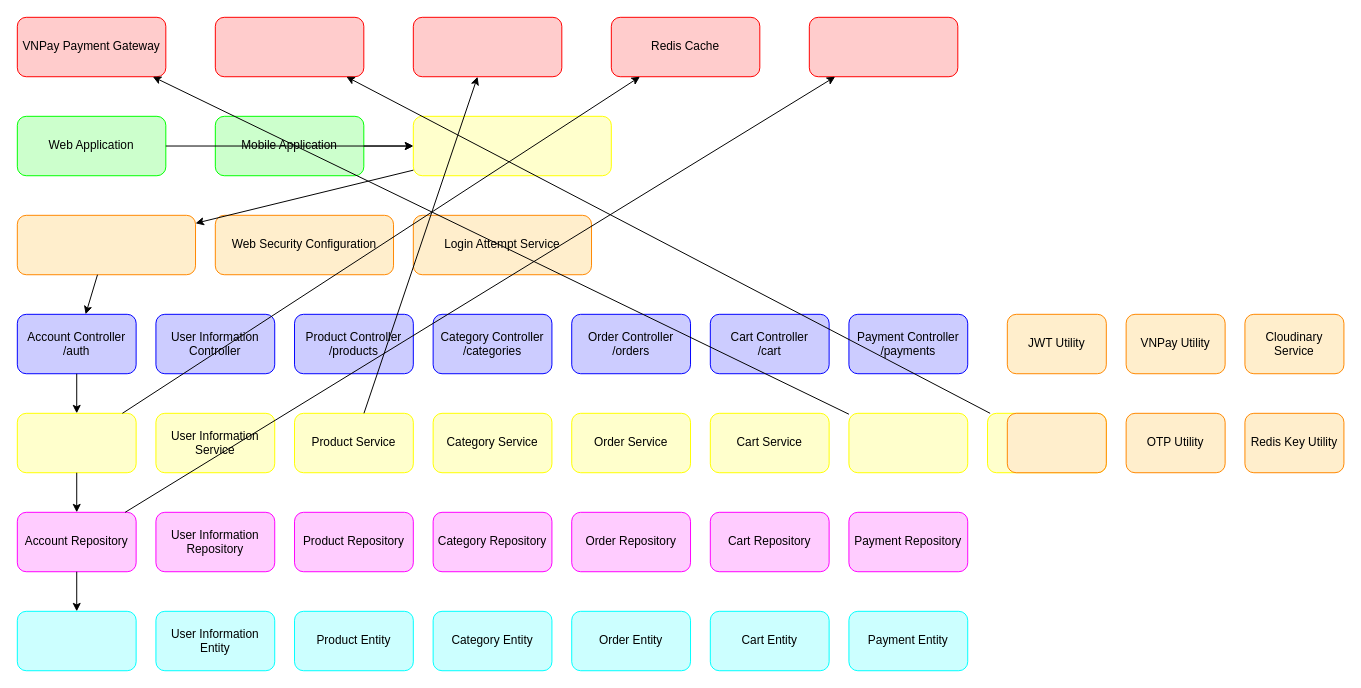
The diagram is 1361 pixels wide and 688 high, and some of its shapes have lost their labels. Here are the shapes that lost their labels. From the top down, the centre of each, then its label:
point 289,46: Gmail SMTP
point 487,46: Cloudinary CDN
point 883,46: PostgreSQL Database
point 511,145: API Gateway /api/v1
point 106,244: JWT Authentication Filter
point 76,442: Account Service
point 908,442: Payment Service
point 1056,442: ID Generator
point 76,640: Account Entity
